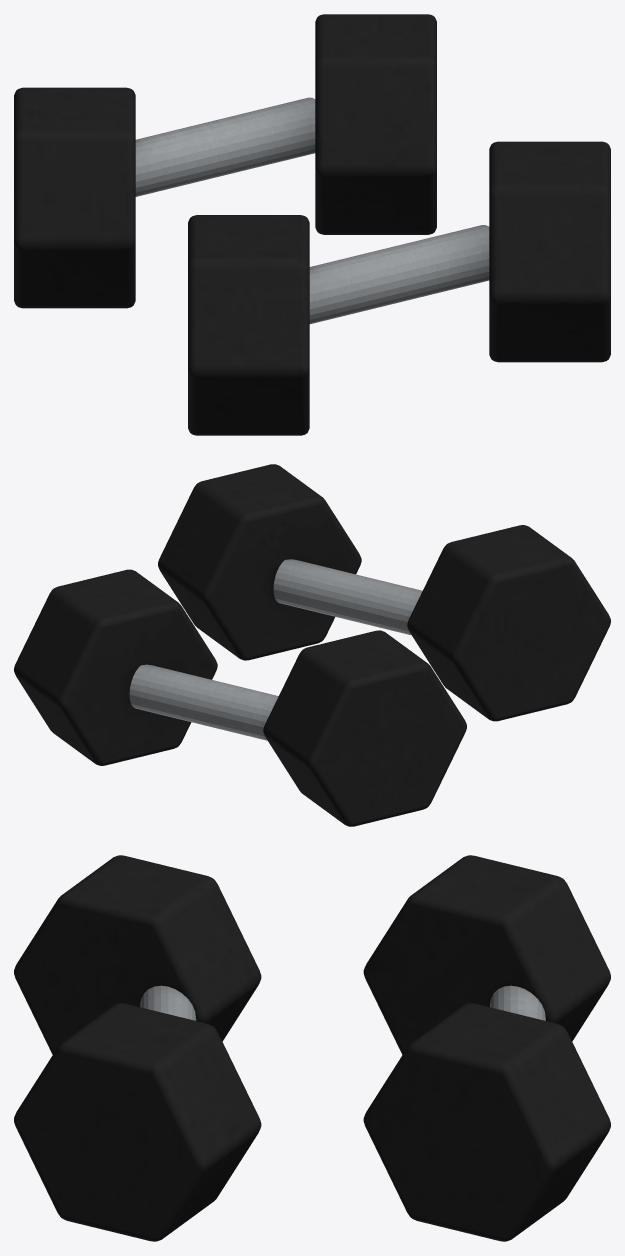
File: hex-pair.glb
3 renders of one model, top to bottom at view 1: azimuth 30°, elevation 25°; view 2: azimuth 150°, elevation 25°; view 3: azimuth 270°, elevation 25°, orthographic. The views are drawn at different scales.
Parts seen in each view (by area): view 1: rubber_plate, knurled; view 2: rubber_plate, knurled; view 3: rubber_plate, knurled.
Boxes of the visible parts, x1,y1,x2,y2 form: rubber_plate: (14,14,610,435); knurled: (135,97,489,323); rubber_plate: (14,464,610,826); knurled: (129,559,422,740); rubber_plate: (14,855,610,1241); knurled: (140,985,545,1020).
Size of the model in its own units: 0.3204 by 0.1126 by 0.3414.
Materials: 2 (2 with a texture image).
